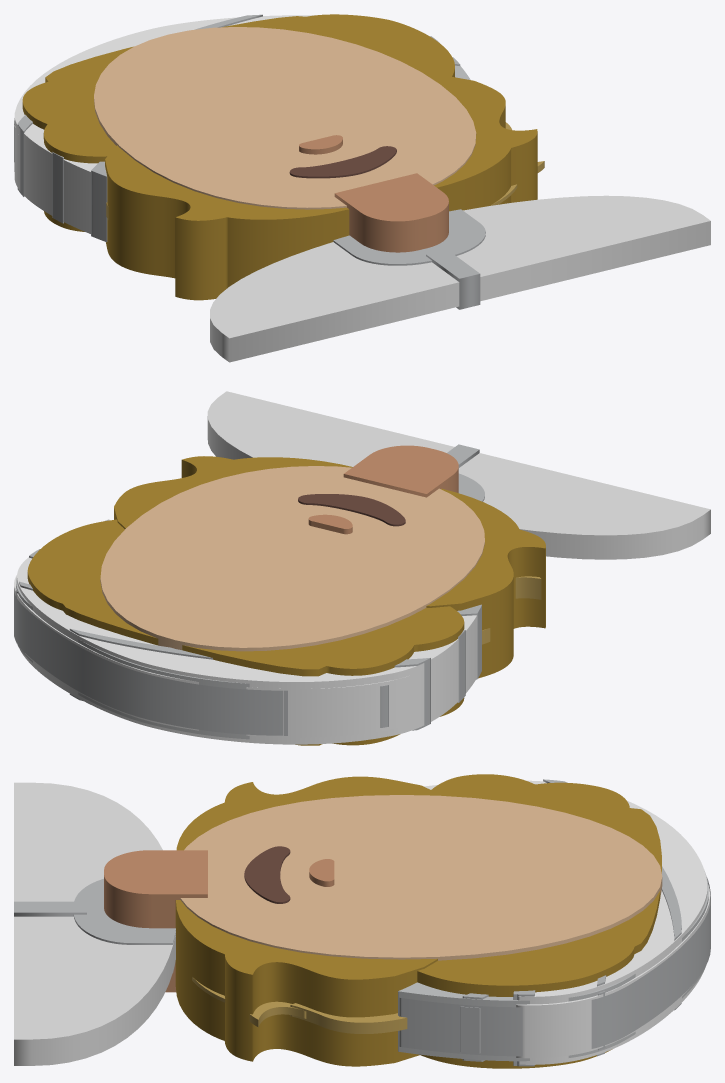
File: emoji_u1f473_1f3fc.glb
3 renders of one model, top to bottom at view 1: azimuth 30°, elevation 25°; view 2: azimuth 150°, elevation 25°; view 3: azimuth 270°, elevation 25°, orthographic. The views are drawn at different scales.
Visible parts, largest first — view 1: emoji_u1f473_1f3fc; view 2: emoji_u1f473_1f3fc; view 3: emoji_u1f473_1f3fc.
Boxes of the visible parts, x1,y1,x2,y2 form: emoji_u1f473_1f3fc: (14,14,710,362); emoji_u1f473_1f3fc: (14,391,710,745); emoji_u1f473_1f3fc: (14,774,710,1068).
Bounding box in the file's own units: 0.0292 × 0.0054 × 0.0334.
